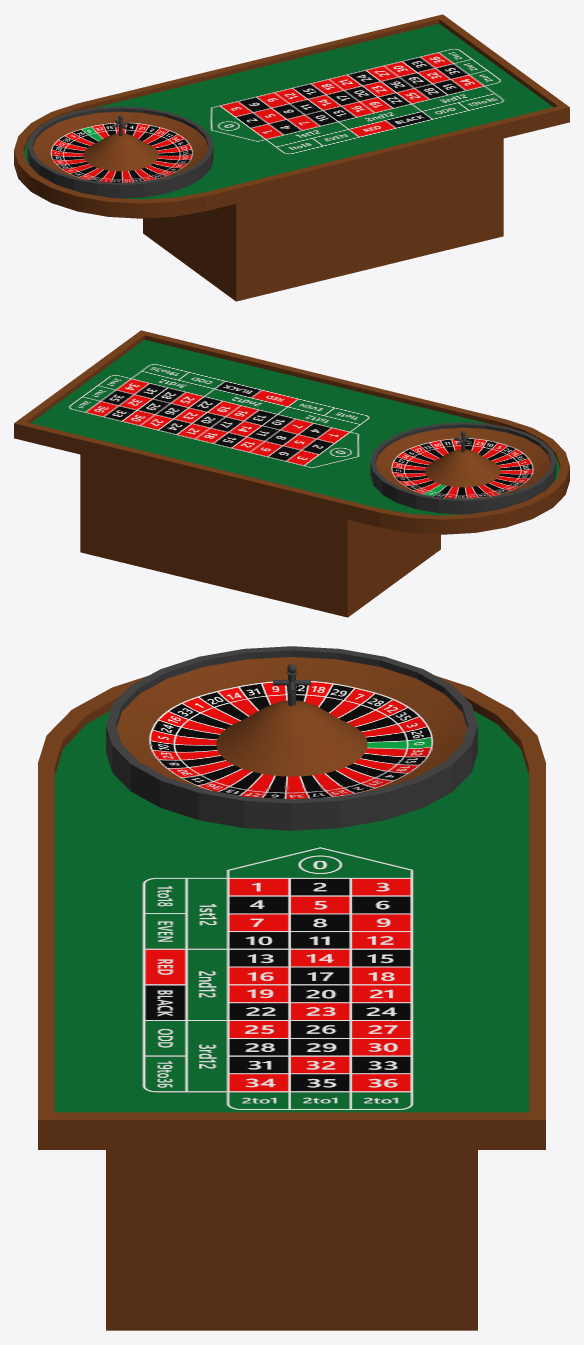
The model's file is roulette table.fbx.
3 views of the same model, one above another, from view 1: azimuth 30°, elevation 25°; view 2: azimuth 150°, elevation 25°; view 3: azimuth 270°, elevation 25° (orthographic). The views are drawn at different scales.
Parts seen in each view (by area): view 1: roulette_table, innerSpinner2, outerSpinner; view 2: roulette_table, innerSpinner2, outerSpinner; view 3: roulette_table, innerSpinner2, outerSpinner.
Boxes of the visible parts, x1,y1,x2,y2 form: roulette_table: (14, 14, 569, 301); innerSpinner2: (33, 111, 207, 182); outerSpinner: (27, 106, 213, 198); roulette_table: (14, 330, 569, 617); innerSpinner2: (376, 427, 550, 498); outerSpinner: (370, 422, 556, 514); roulette_table: (38, 676, 545, 1330); innerSpinner2: (117, 657, 466, 799); outerSpinner: (106, 646, 477, 830).
Bounding box in the file's own units: 130 × 44 × 60.
